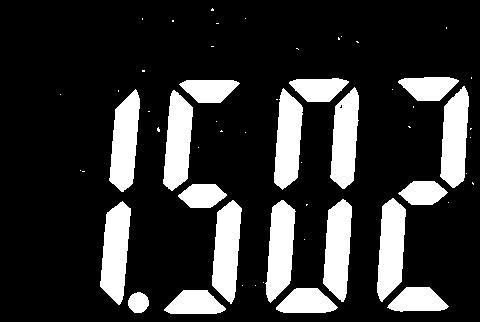0: (261, 75, 363, 313)
1: (92, 85, 143, 305)
2: (374, 73, 470, 313)
5: (160, 75, 246, 314)
dot: (126, 289, 152, 315)
